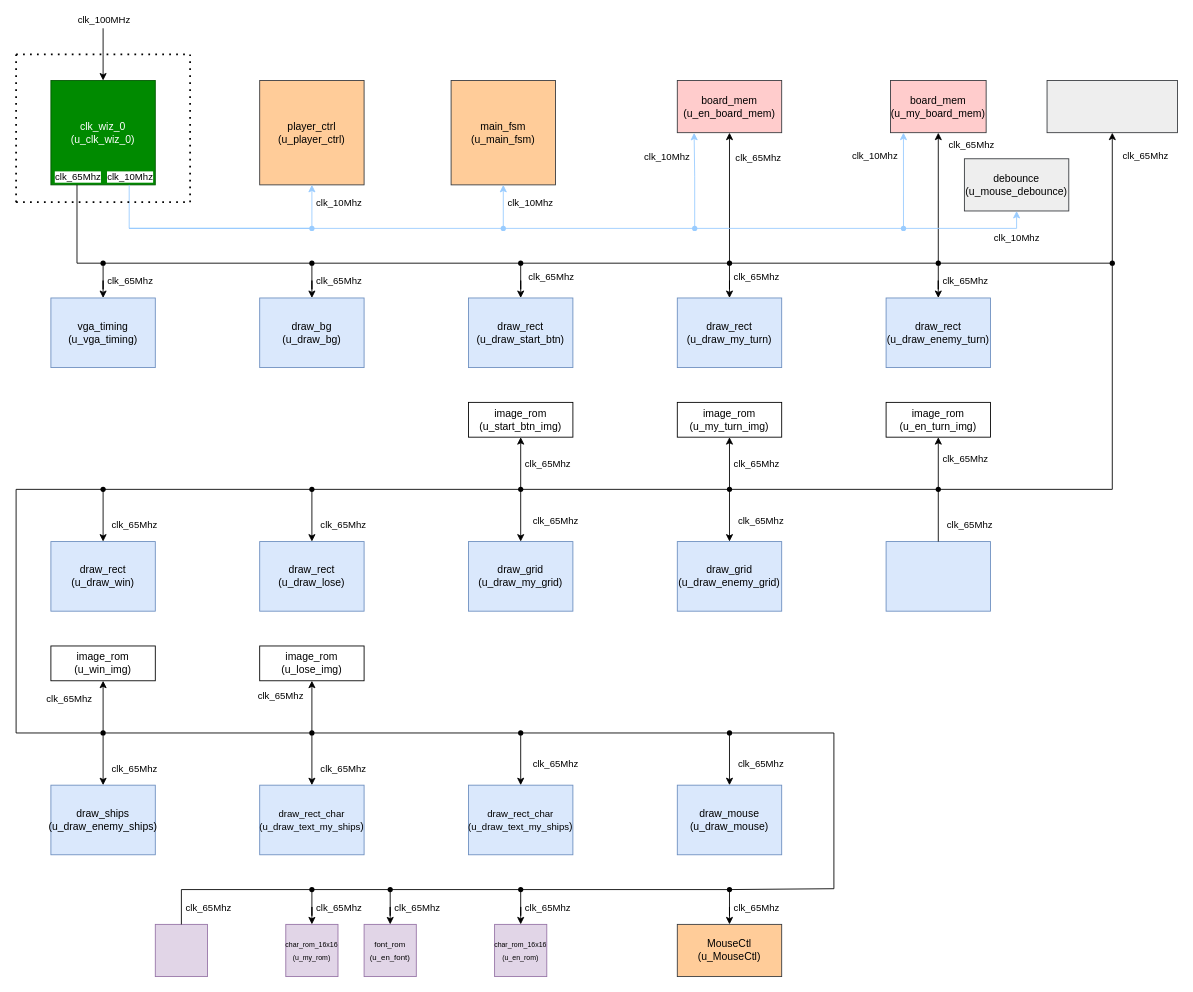
The diagram is 1193 pixels wide and 992 high, and some of its shapes have lost their labels. Here are the shapes that lost their labels. From the top down, the centre of each, then its label:
At point (1112, 106): "disp_hex_mux (u_disp_hex_mux)".
At point (937, 576): "draw_ships (u_draw_my_ships)".
At point (180, 950): "font_rom (u_my_font)".
